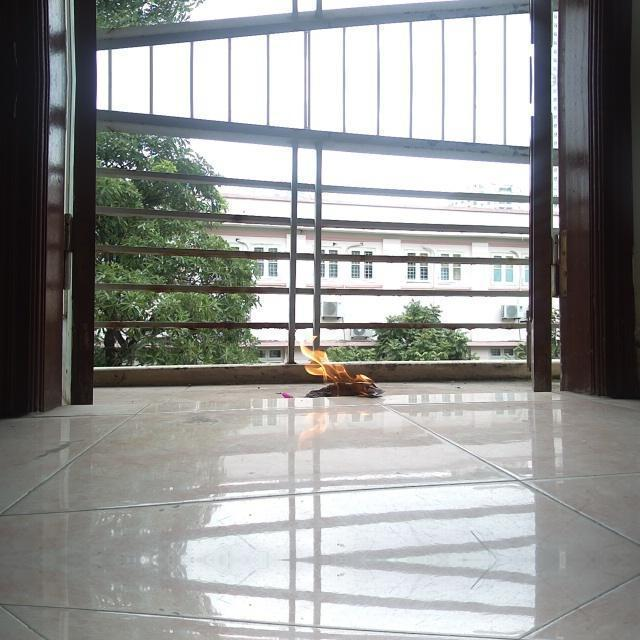smoke: (298, 334, 372, 394)
